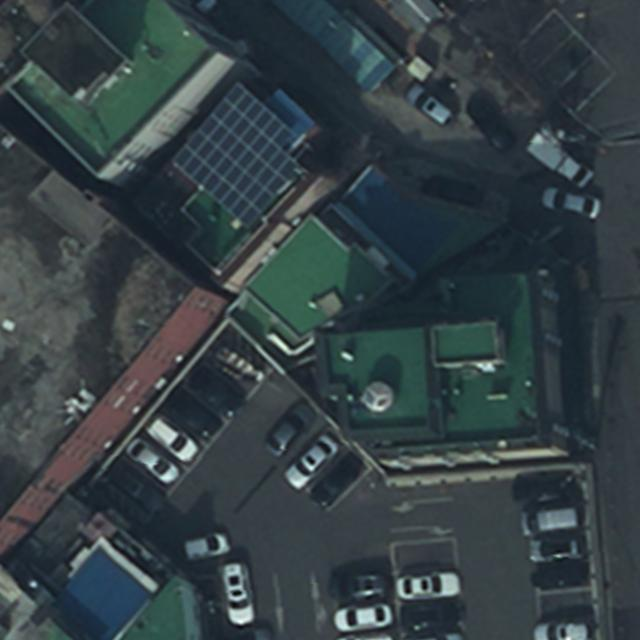panel: (167, 79, 302, 228)
